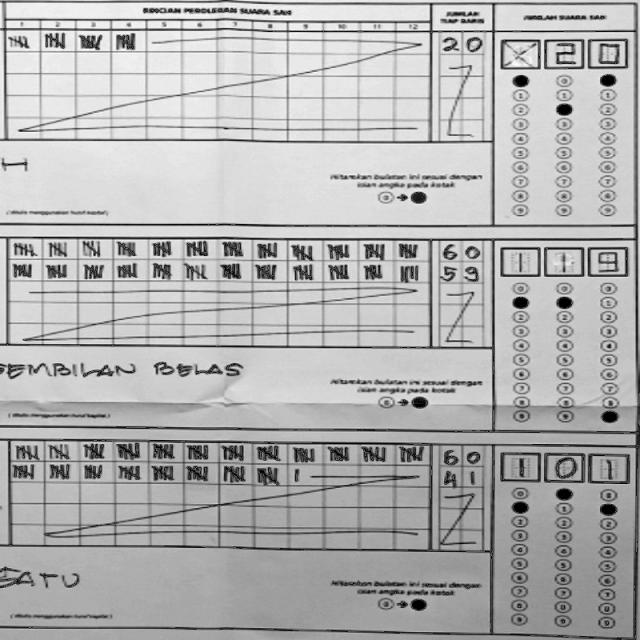Suara: (495, 443, 630, 486), (495, 240, 632, 279), (495, 31, 629, 69)
